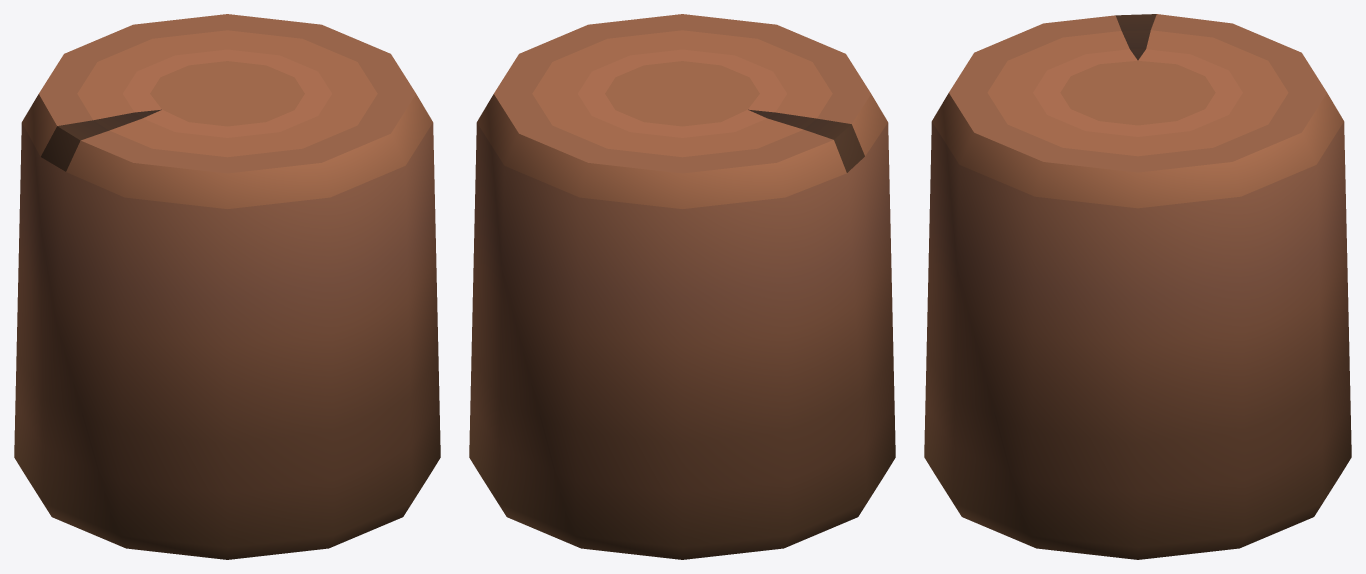
Rendered from TreeLog_1.fbx.
3 renders of one model, left to right at view 1: azimuth 30°, elevation 25°; view 2: azimuth 150°, elevation 25°; view 3: azimuth 270°, elevation 25°, orthographic.
Parts seen in each view (by area): view 1: TreeLog_1; view 2: TreeLog_1; view 3: TreeLog_1.
Part boxes in pixels (x1=…): TreeLog_1: x1=14, y1=14, x2=440, y2=559; TreeLog_1: x1=469, y1=14, x2=895, y2=559; TreeLog_1: x1=924, y1=14, x2=1351, y2=559.
Size of the model in its own units: 40.79 by 40.14 by 40.79.
